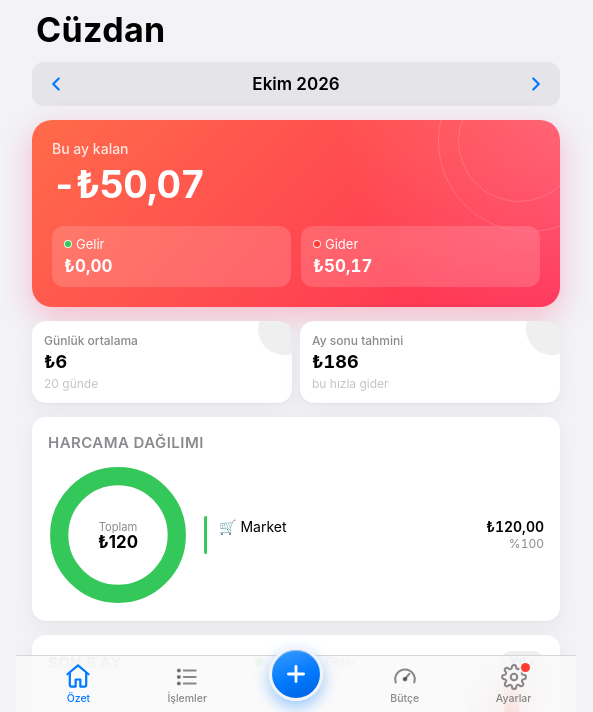
Test: Cüzdan › çok kayıt varken yedek hatırlatır, yedek alınınca hatırlatma kalkar
Expected: the element named "Yedek alma zamanı" is shown, [521, 663, 530, 672]
Click the button "Ayarlar". click: (514, 685)
box: [459, 662, 568, 708]
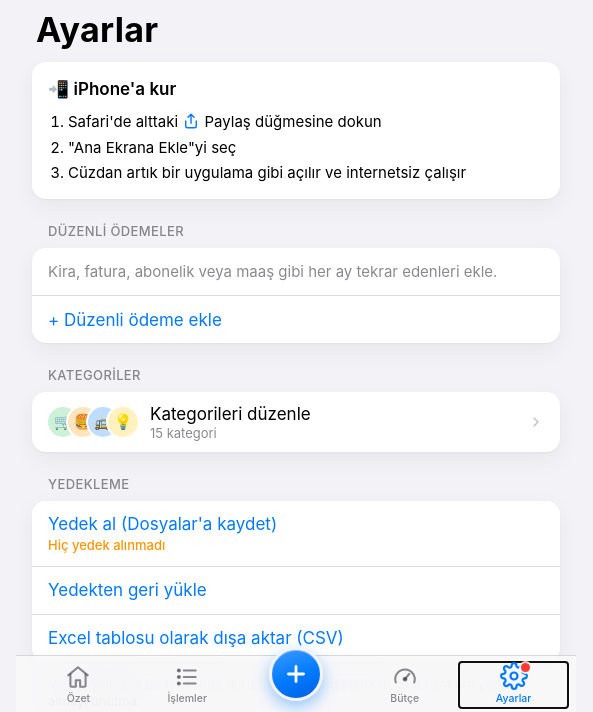
Expected: the text "Hiç yedek alınmadı" is shown, [48, 537, 165, 554]
Click the button "Yedek al (Dosyalar'a kaydet) Hiç yedek alınmadı". click: (163, 524)
box: [32, 501, 560, 566]
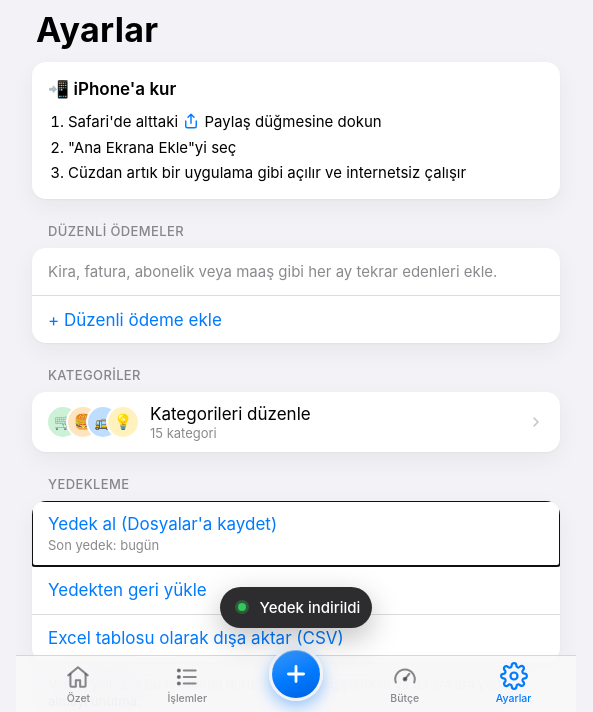
Expected: the text "Son yedek: bugün" is shown, [48, 537, 159, 554]
